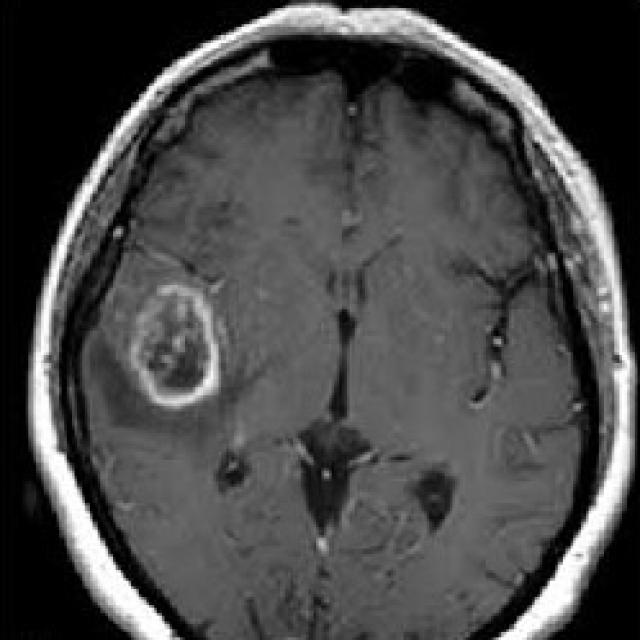tumor: (134, 286, 214, 405)
